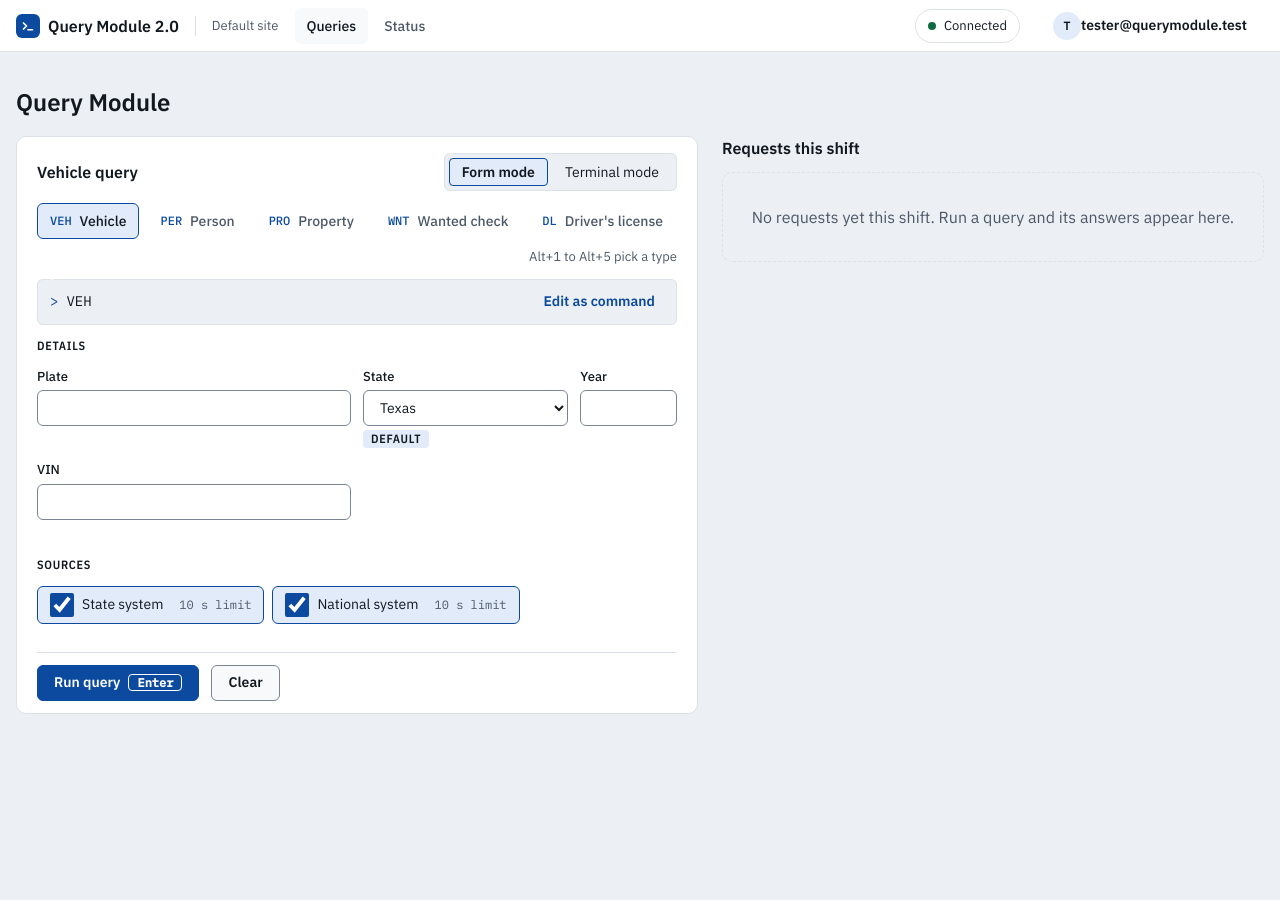
Scenario: B3 dispatcher requests list (spec 6.7) › a skipped part is a line on the row that claims no reason
This screenshot has width=1280, height=900.
Type "ZZ-0001" into the field labelled "Plate" at (194, 408), box top-left (37, 390), bottom-right (351, 426)
Then press Enter
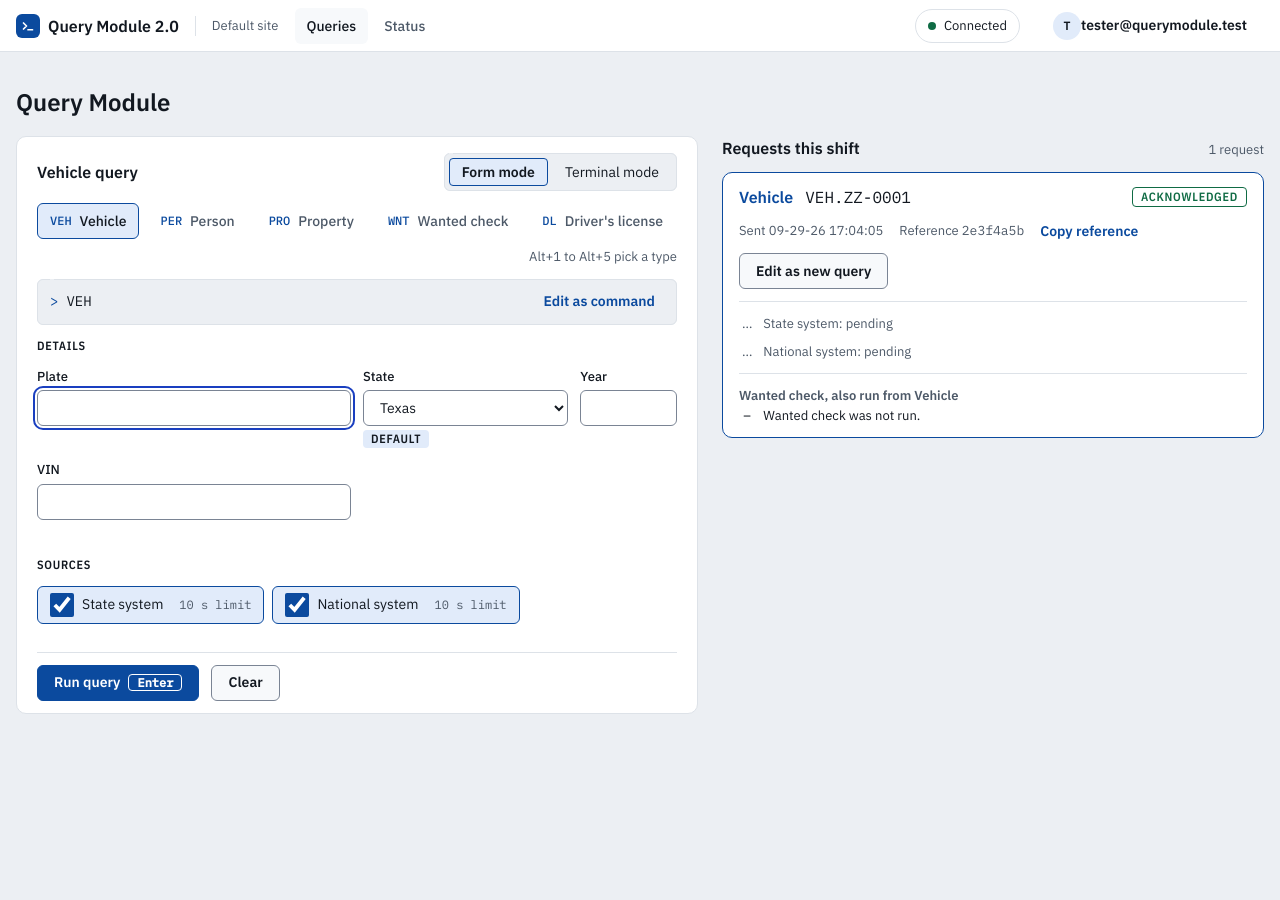
Expected: the list item does not show "linked query has no sources", top-left (722, 172), bottom-right (1264, 438)
Now the list item shows "Wanted check was not run.", box top-left (763, 407), bottom-right (920, 424)
